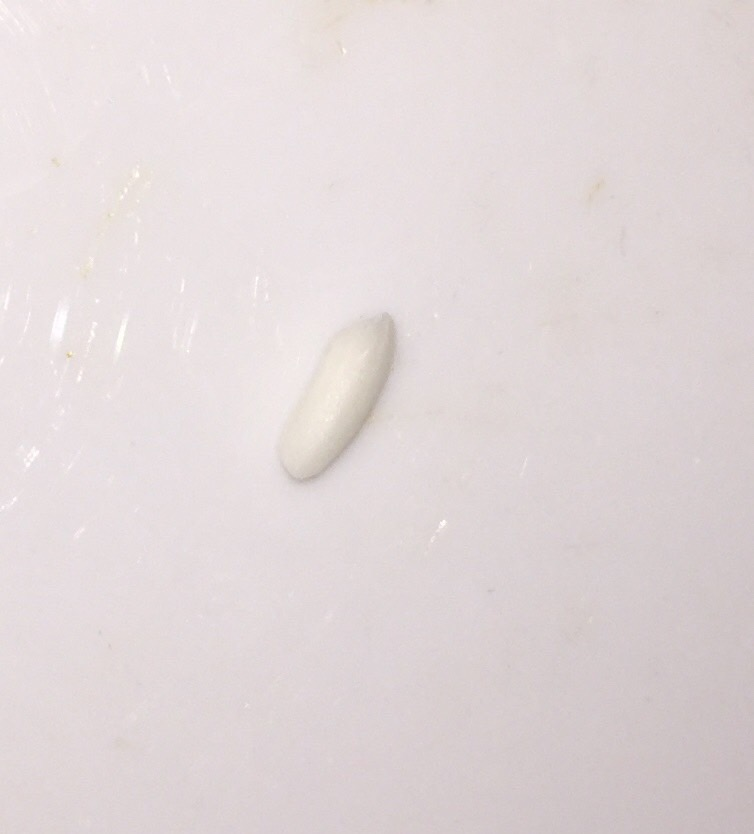Gao Nep Sap: (275, 294, 415, 510)
